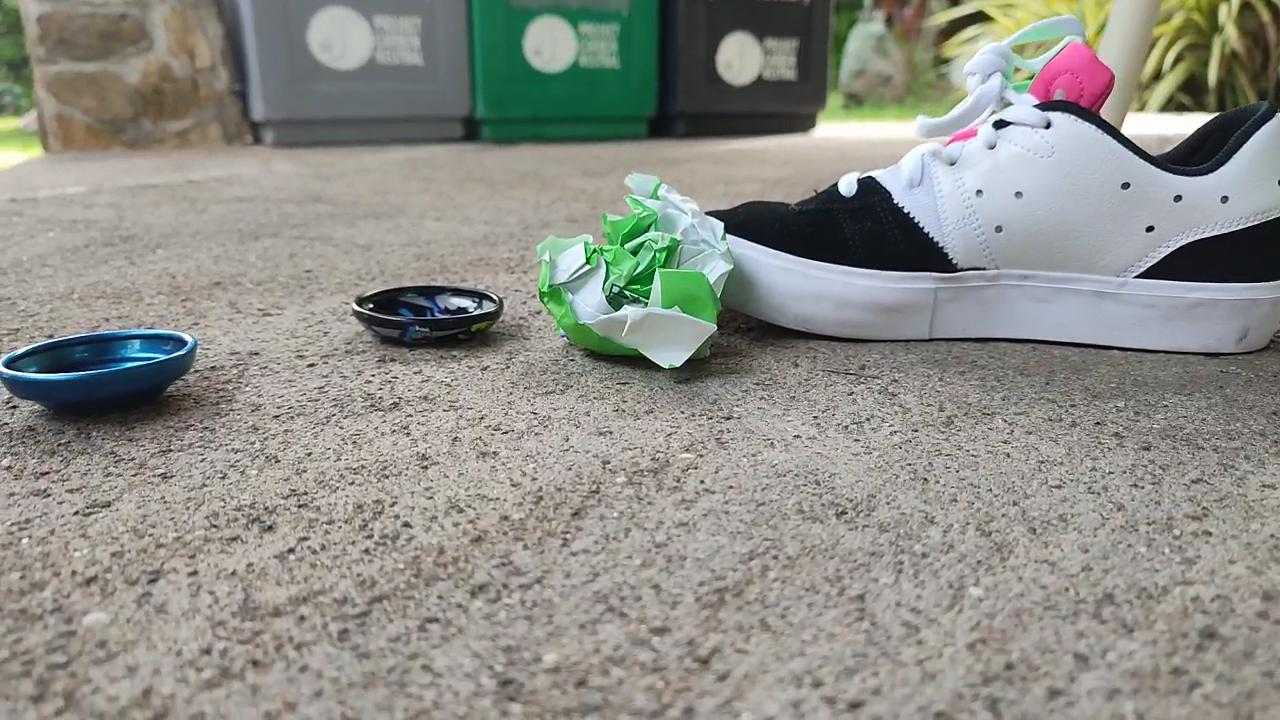Paper: (511, 159, 741, 392)
